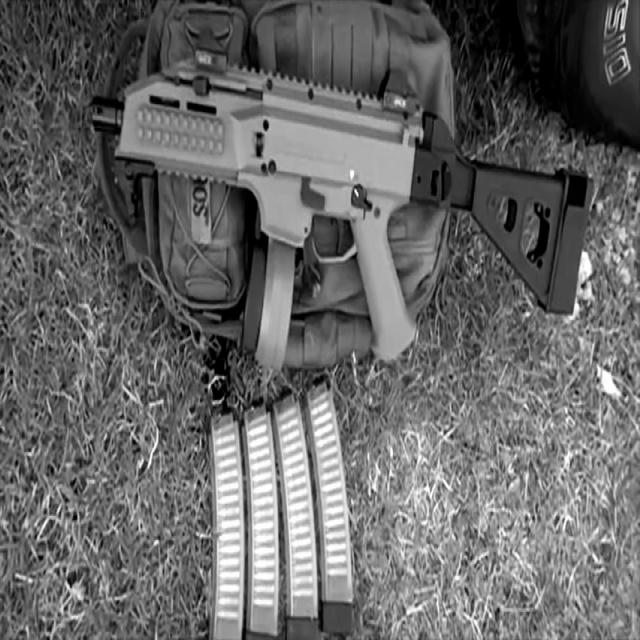Sub-machine-gun: (71, 10, 604, 395)
